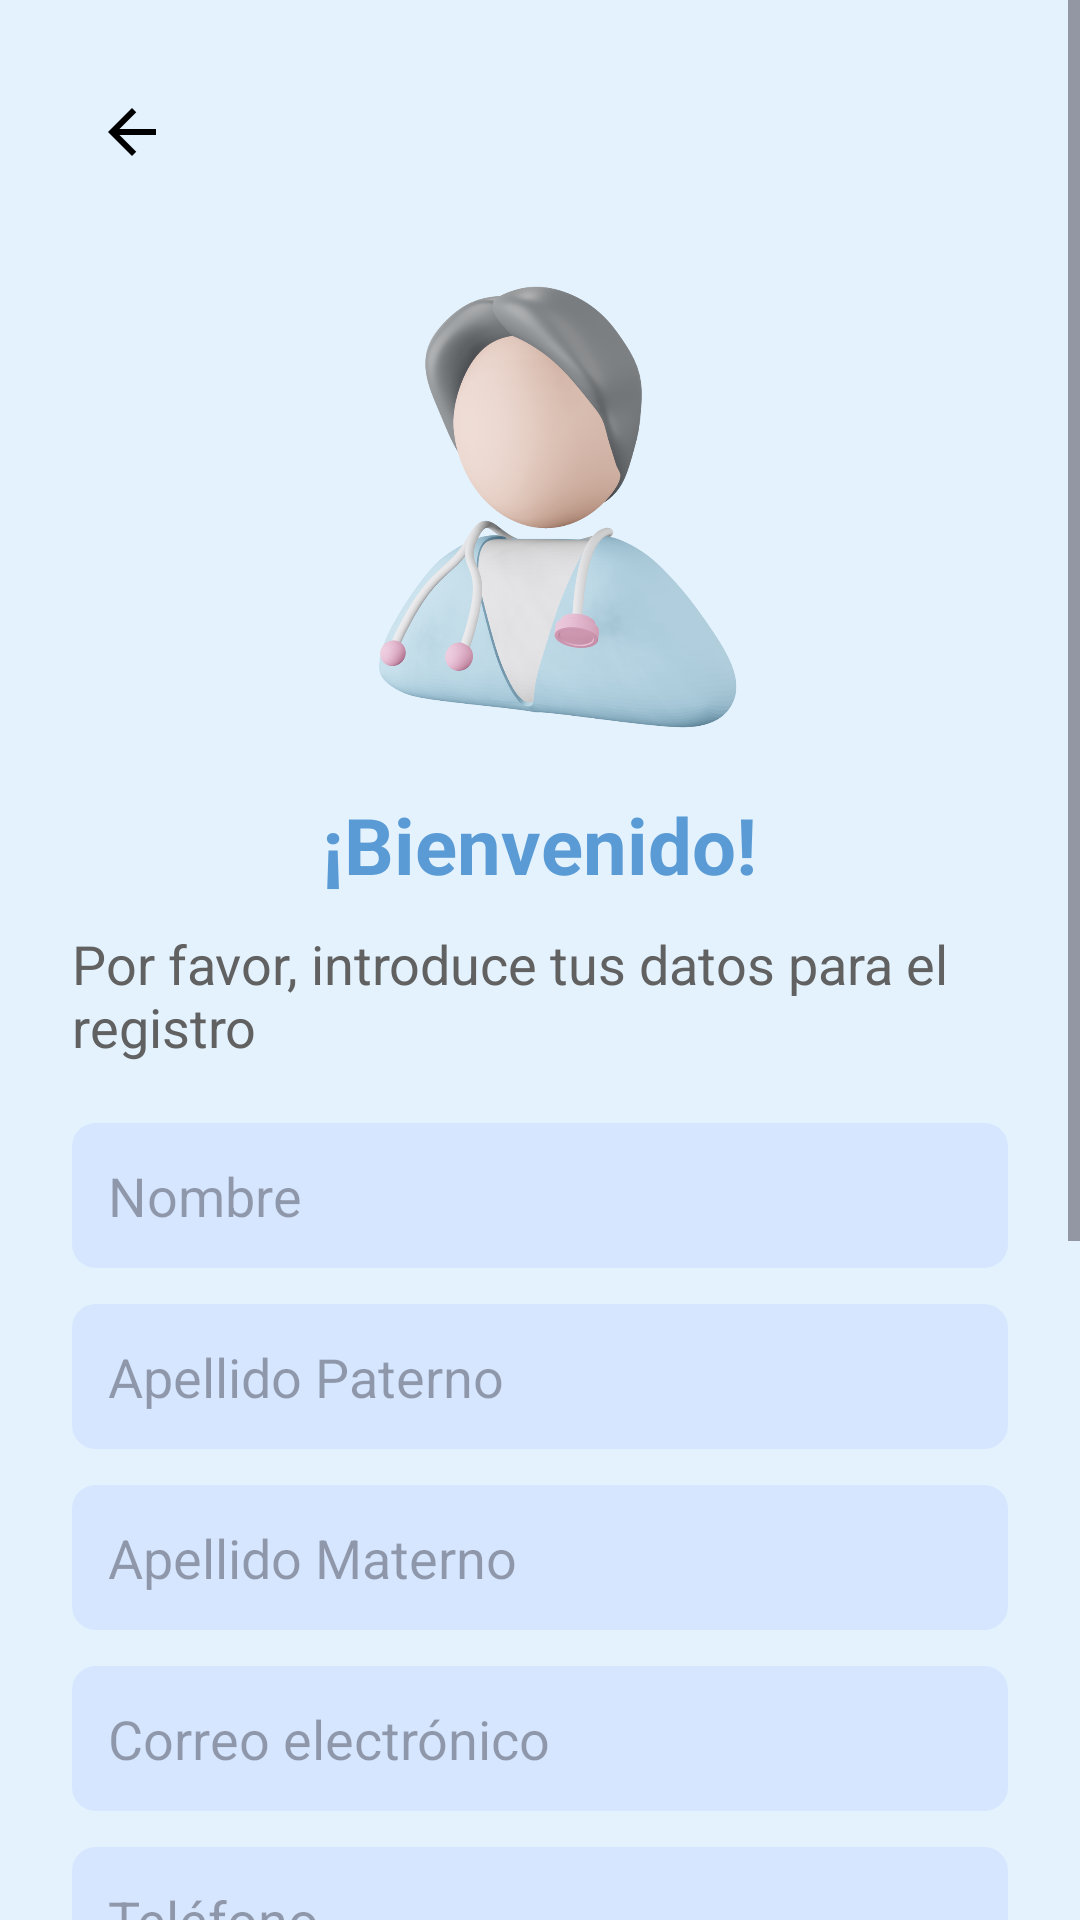

Icon bounding boxes for this 1080px x 1920px phone screenshot, format (x1, y1, x2, y2):
Boton regresar: (108, 108, 156, 156)
